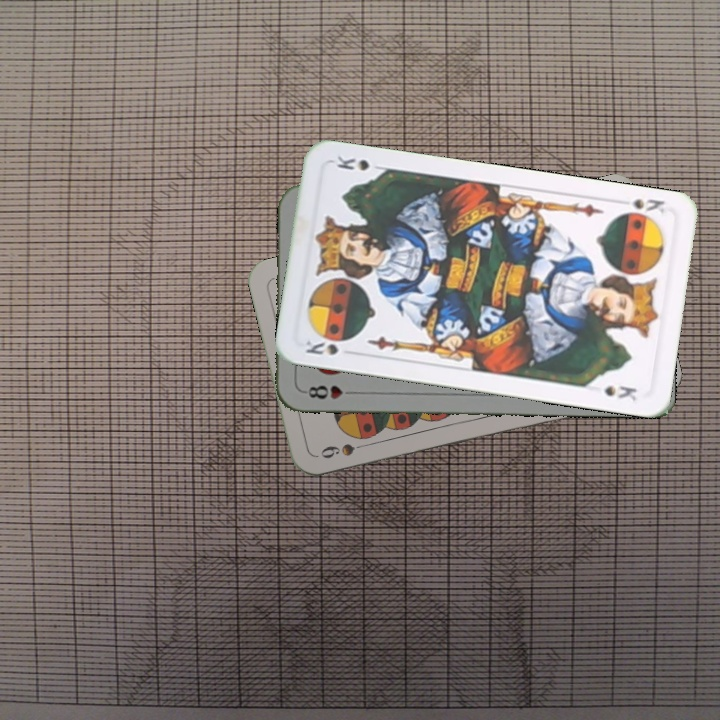H8: (300, 381, 359, 401)
S9: (316, 438, 374, 461)
SK: (301, 335, 341, 358), (629, 194, 667, 218)
